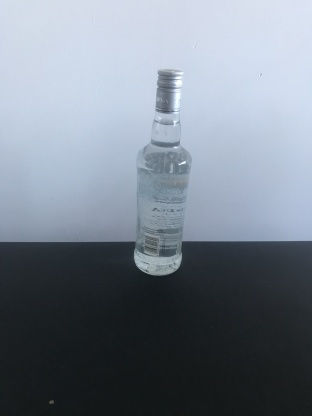nakretka: (153, 66, 185, 114)
